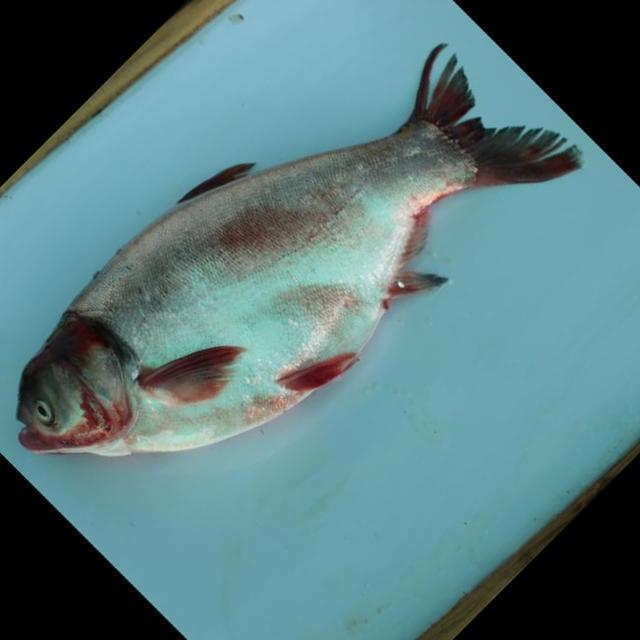SilverCarp: (3, 74, 551, 455)
